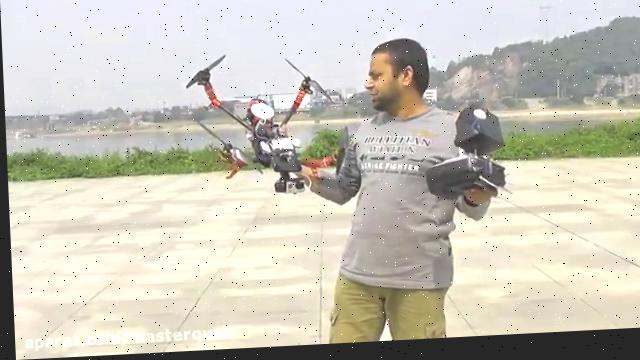drone: (181, 50, 350, 201)
